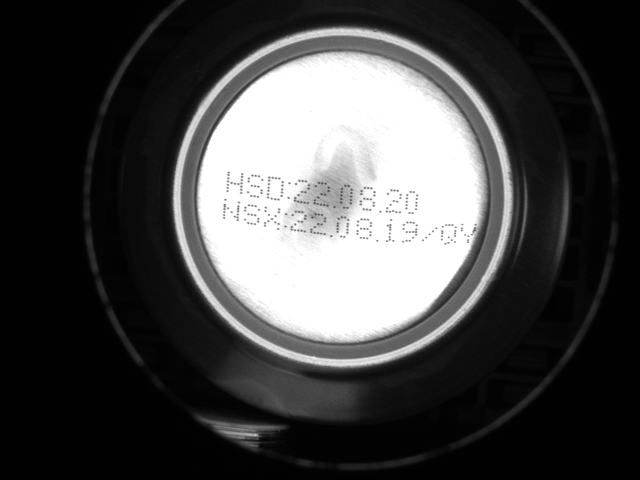/: (416, 222, 435, 244)
0: (398, 189, 416, 215), (336, 181, 351, 210), (333, 215, 349, 241)
1: (379, 217, 392, 242)
2: (308, 178, 329, 207), (381, 183, 399, 216), (292, 178, 309, 206), (307, 211, 324, 238), (288, 207, 303, 236)
8: (355, 185, 374, 212), (353, 215, 370, 242)
9: (395, 218, 415, 243)
D: (264, 173, 284, 201)
H: (222, 169, 242, 195)
N: (219, 198, 238, 220)
Q: (437, 223, 453, 248)
S: (245, 172, 264, 199), (241, 202, 258, 228)
X: (262, 205, 279, 230)
Y: (457, 225, 475, 248)
